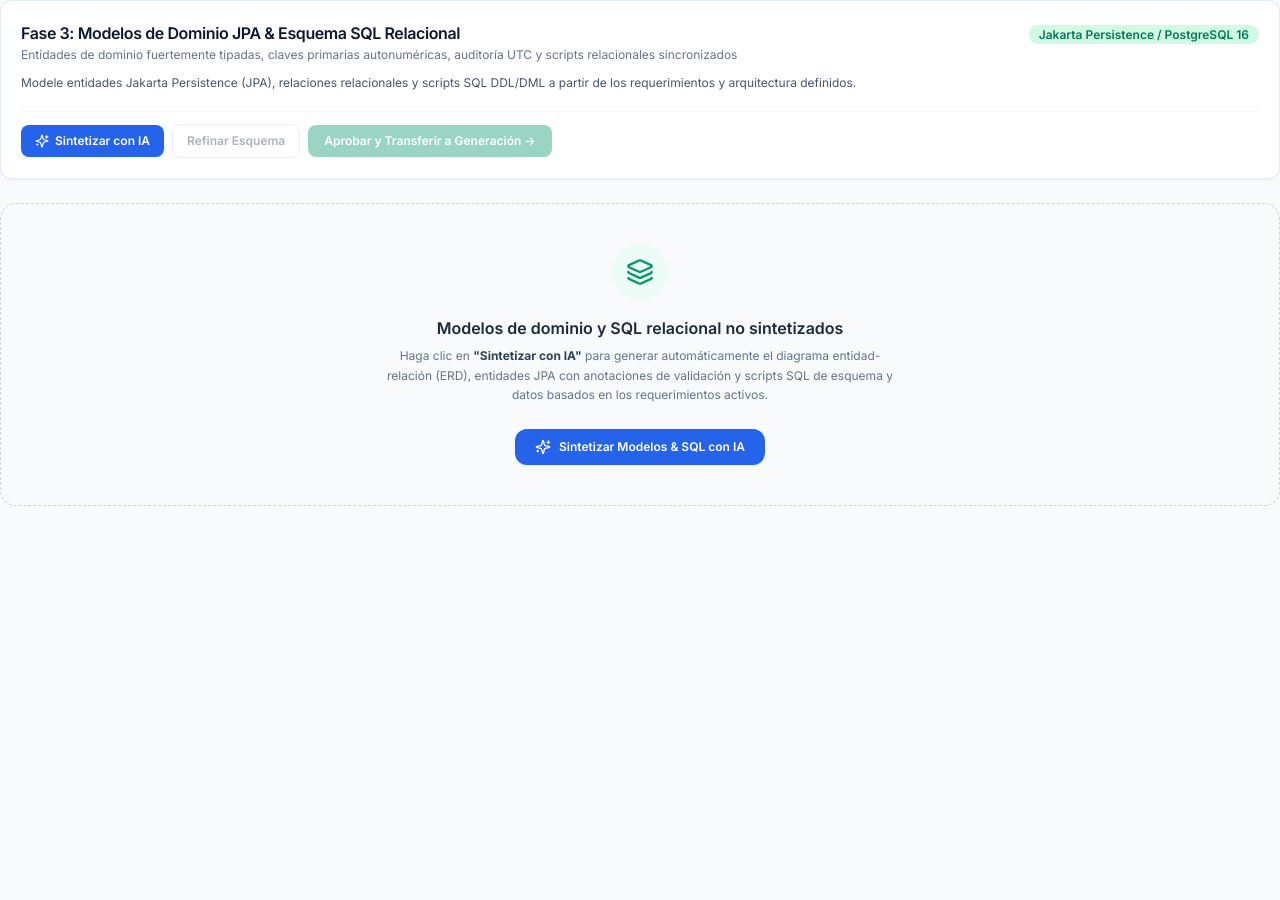
Scenario: Views: ArchitectureView & DomainModelsView › DomainModelsView › synthesizes models and SQL with IA and displays ERD, JPA entities, and DDL
Expected: the heading "Modelos de dominio y SQL relacional no sintetizados" is shown, top-left (437, 318), bottom-right (843, 338)
Click the button "Sintetizar Modelos & SQL con IA".
click(640, 446)  # box top-left (515, 428), bottom-right (765, 464)
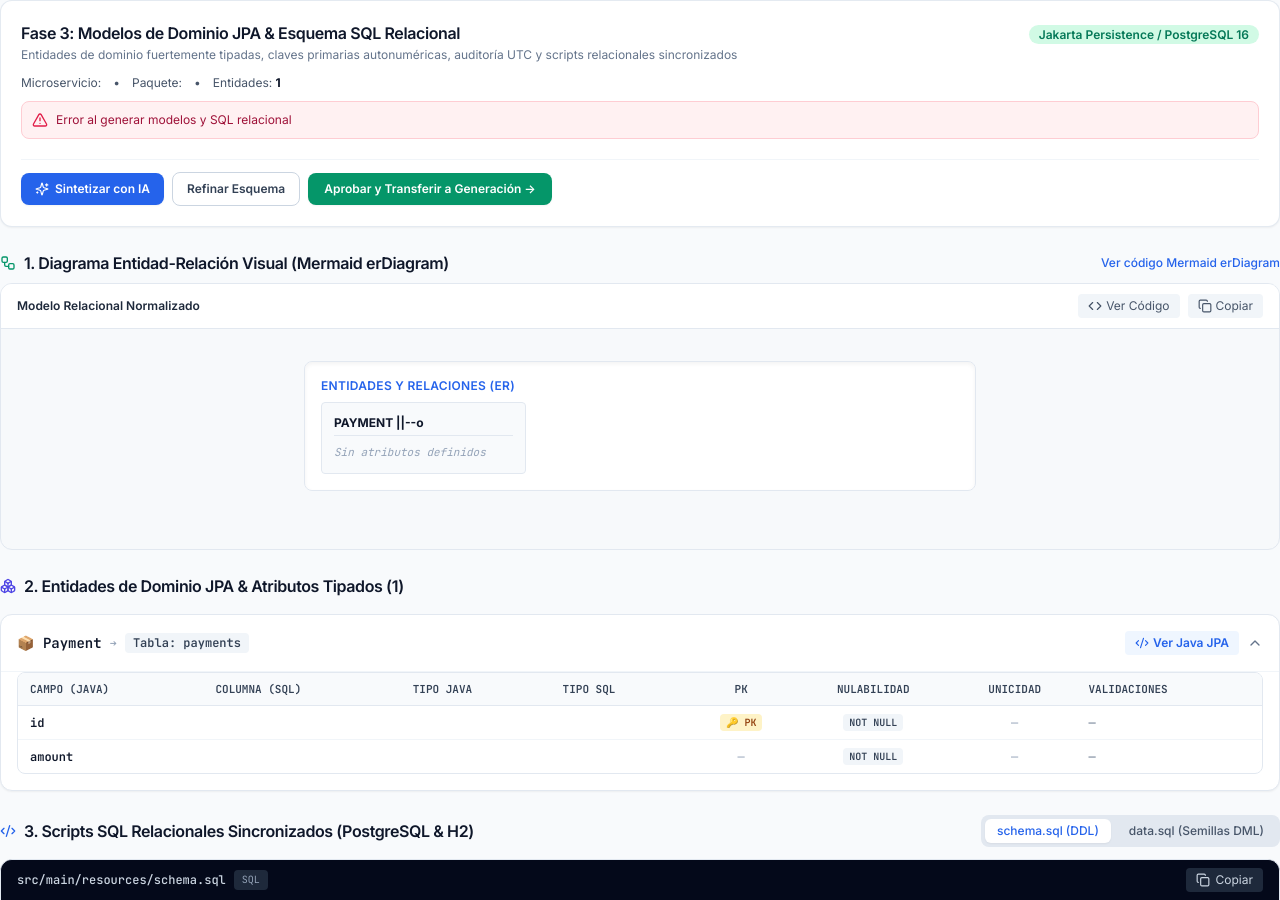
Expected: the text "1. Diagrama Entidad-Relación Visual (Mermaid erDiagram)" is shown, top-left (24, 251), bottom-right (449, 275)
Expected: the text "2. Entidades de Dominio JPA & Atributos Tipados (1)" is shown, top-left (24, 574), bottom-right (404, 598)
Expected: the text "3. Scripts SQL Relacionales Sincronizados (PostgreSQL & H2)" is shown, top-left (24, 819), bottom-right (474, 843)
